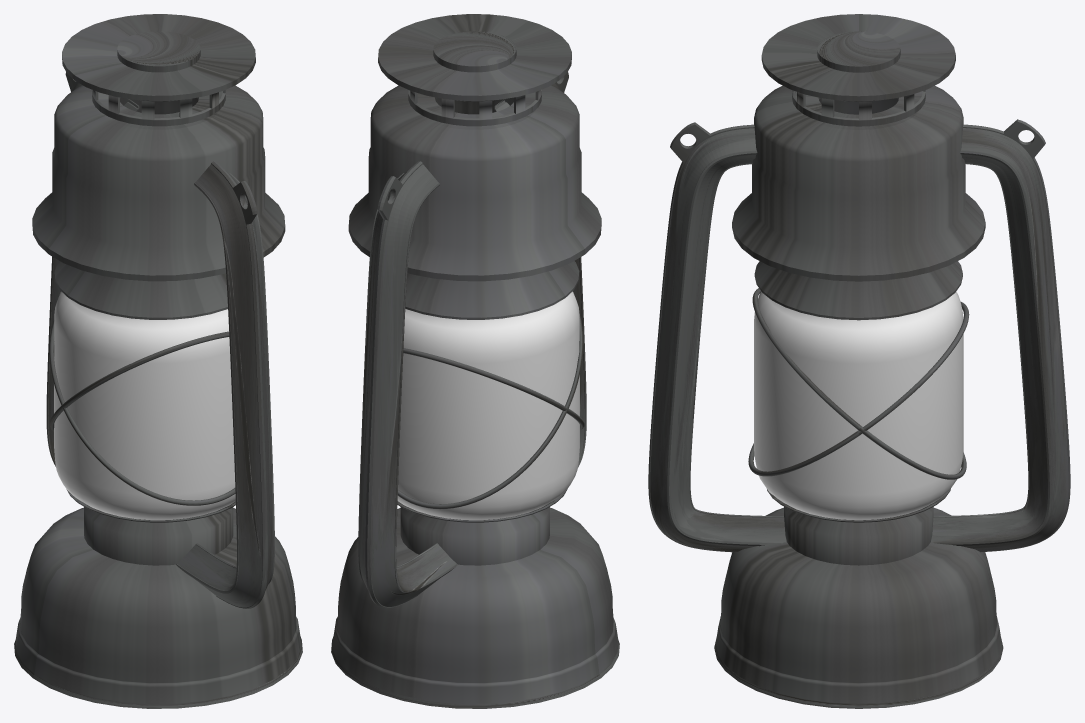
File: lantern.fbx
3 renders of one model, left to right at view 1: azimuth 30°, elevation 25°; view 2: azimuth 150°, elevation 25°; view 3: azimuth 270°, elevation 25°, orthographic.
Visible parts, largest first — view 1: Cylinder.013, Cylinder.011, NurbsPath, Cylinder.006, NurbsCircle.001; view 2: Cylinder.013, Cylinder.011, NurbsPath, Cylinder.006, NurbsCircle.001; view 3: Cylinder.013, NurbsPath, Cylinder.011, Cylinder.006, NurbsCircle.001.
Boxes of the visible parts, x1=… form: Cylinder.013: x1=14, y1=85, x2=302, y2=708; Cylinder.011: x1=54, y1=291, x2=235, y2=520; NurbsPath: x1=46, y1=72, x2=274, y2=608; Cylinder.006: x1=62, y1=14, x2=255, y2=126; NurbsCircle.001: x1=49, y1=320, x2=235, y2=505; Cylinder.013: x1=331, y1=85, x2=619, y2=708; Cylinder.011: x1=397, y1=291, x2=579, y2=520; NurbsPath: x1=358, y1=72, x2=586, y2=608; Cylinder.006: x1=378, y1=14, x2=571, y2=126; NurbsCircle.001: x1=397, y1=313, x2=584, y2=509; Cylinder.013: x1=714, y1=85, x2=1003, y2=708; NurbsPath: x1=648, y1=119, x2=1070, y2=552; Cylinder.011: x1=754, y1=291, x2=963, y2=520; Cylinder.006: x1=761, y1=14, x2=955, y2=126; NurbsCircle.001: x1=748, y1=288, x2=969, y2=479.
Bounding box in the file's own units: 200 × 457 × 292.
2 materials, 1 textured.
